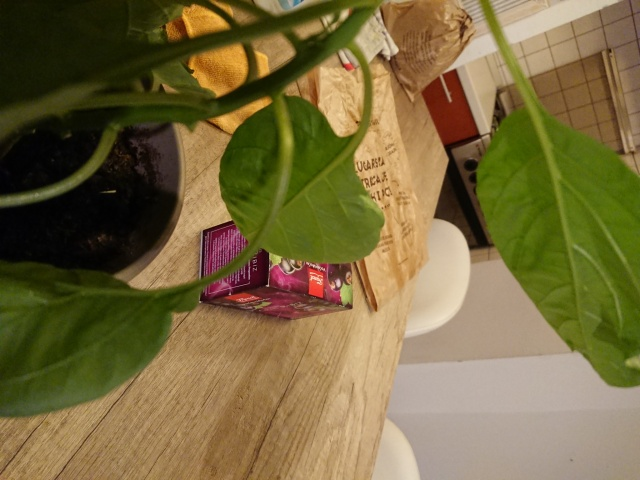Franck Black Currant Tea 60g: (195, 210, 356, 323)
